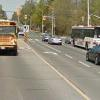Bus: (68, 19, 98, 50)
